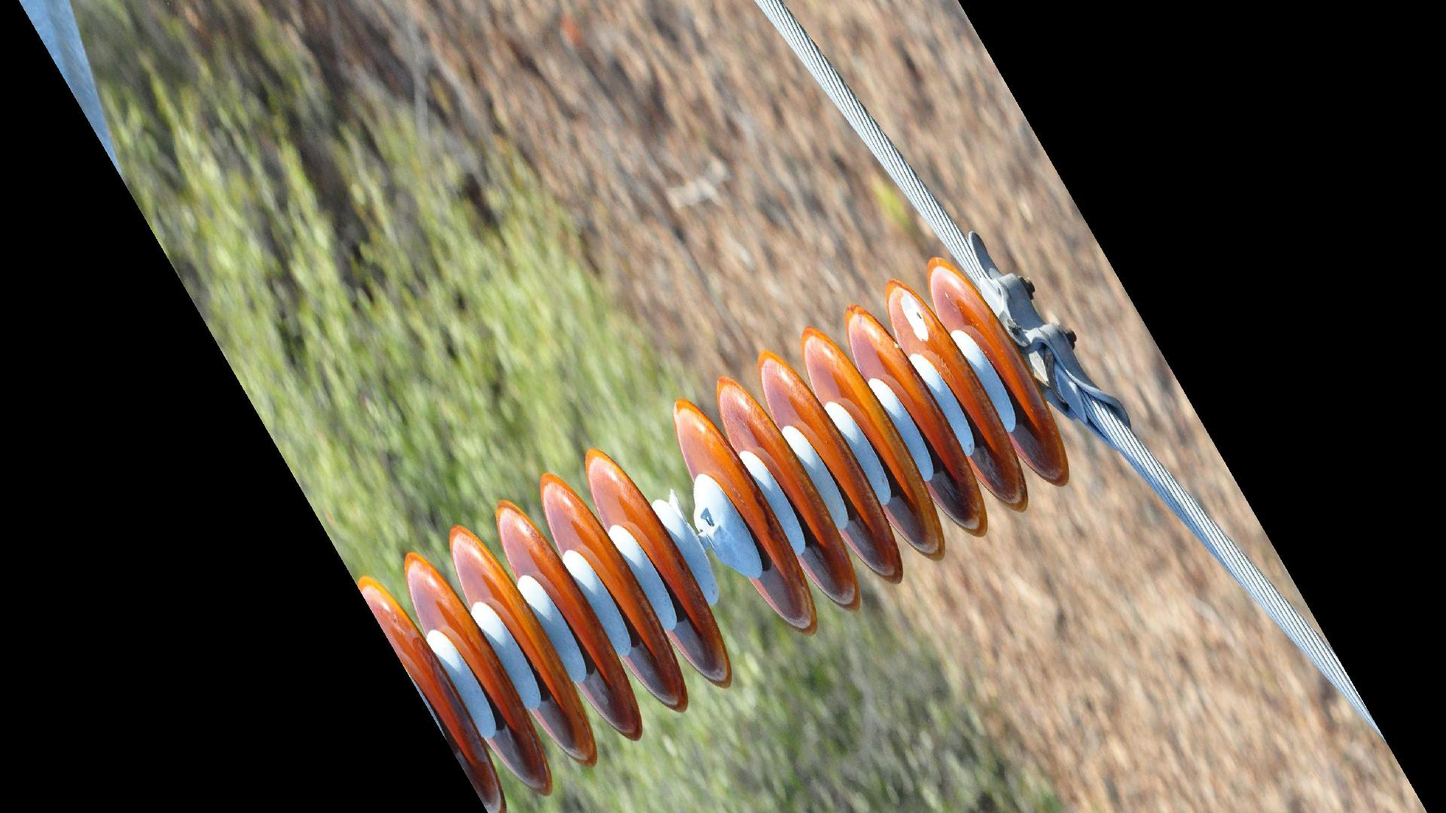insulator: (667, 248, 1075, 645), (352, 438, 739, 813)
insulator_breakage: (894, 285, 936, 351)
